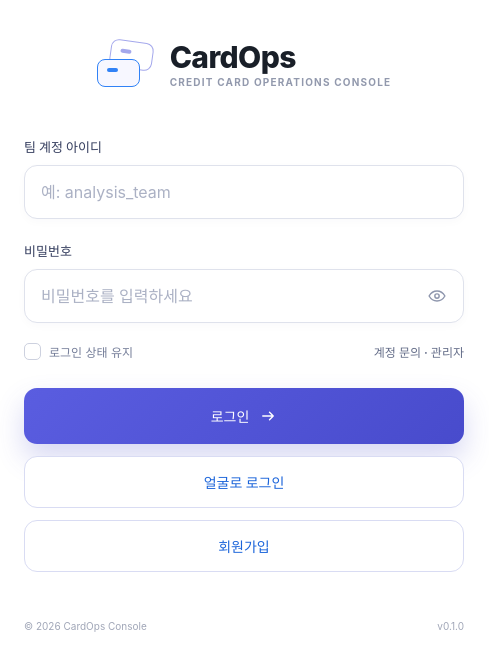
it: 로그인 페이지 › 필수 입력값이 없으면 각 필드의 오류를 표시합니다
Click the button "로그인". click: [244, 416]
box: [24,388,464,444]
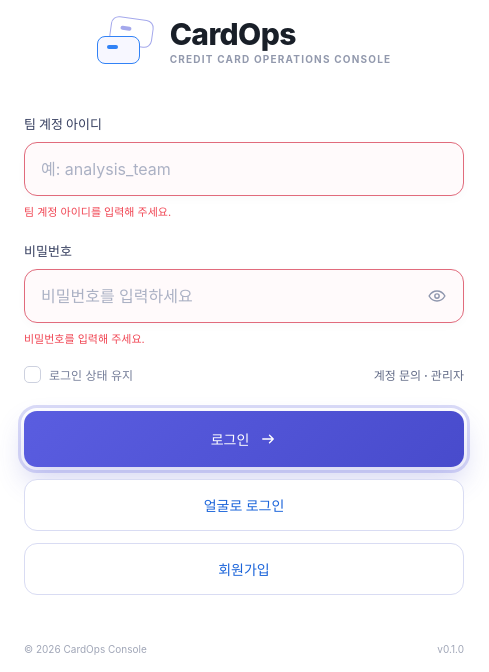
Expected: the text "팀 계정 아이디를 입력해 주세요." is shown, [24,204,171,218]
Expected: the text "비밀번호를 입력해 주세요." is shown, [24,332,145,346]
